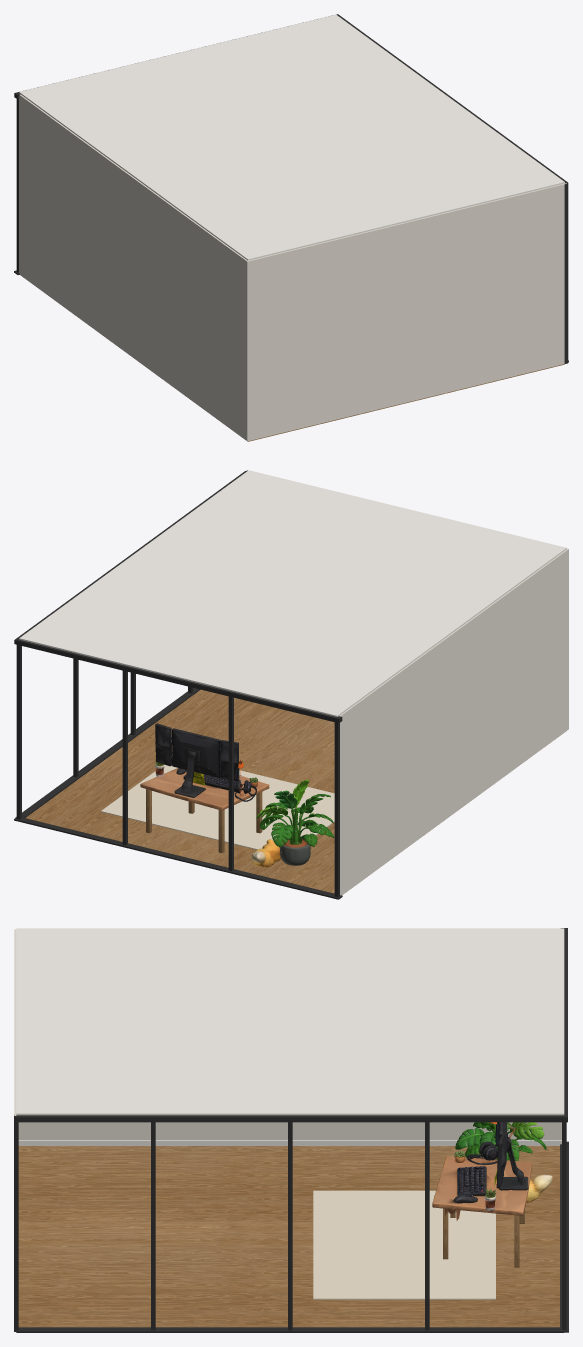
Rendered from room.glb.
3 renders of one model, top to bottom at view 1: azimuth 30°, elevation 25°; view 2: azimuth 150°, elevation 25°; view 3: azimuth 270°, elevation 25°, orthographic. The views are drawn at different scales.
Visible parts, largest first — view 1: ceiling, wallF, wallL, mullionR4.8, headerR; view 2: ceiling, wallL, floor, rug, triple_monitor_workstation_3d_model_triple_monitor_workstati, plotted_plant_dog_plotted_plant_dog, header, threshold, thresholdR, mullion-2.4, mullion0.8, mullion-0.8 (+3 smaller); view 3: ceiling, floor, rug, wallL, triple_monitor_workstation_3d_model_triple_monitor_workstati, headerR, thresholdR, baseL, plotted_plant_dog_plotted_plant_dog, mullionR4.8, mullionR0.3, mullionR1.8 (+5 smaller).
Boxes of the visible parts, left/top/right/bottom form: ceiling: left=19, top=14, right=564, bottom=260; wallF: left=246, top=183, right=566, bottom=441; wallL: left=19, top=94, right=247, bottom=440; mullionR4.8: left=564, top=183, right=568, bottom=363; headerR: left=339, top=16, right=568, bottom=183; ceiling: left=19, top=470, right=566, bottom=716; wallL: left=339, top=549, right=568, bottom=895; floor: left=25, top=689, right=526, bottom=893; rug: left=101, top=764, right=334, bottom=852; triple_monitor_workstation_3d_model_triple_monitor_workstati: left=140, top=723, right=269, bottom=810; plotted_plant_dog_plotted_plant_dog: left=251, top=779, right=334, bottom=867; header: left=14, top=637, right=342, bottom=723; threshold: left=14, top=818, right=342, bottom=899; thresholdR: left=15, top=688, right=200, bottom=818; mullion-2.4: left=334, top=722, right=339, bottom=897; mullion0.8: left=122, top=670, right=127, bottom=845; mullion-0.8: left=228, top=696, right=233, bottom=871; ceiling: left=16, top=928, right=564, bottom=1115; floor: left=18, top=1146, right=559, bottom=1327; rug: left=313, top=1190, right=495, bottom=1299; wallL: left=18, top=1122, right=561, bottom=1140; triple_monitor_workstation_3d_model_triple_monitor_workstati: left=432, top=1122, right=531, bottom=1220; headerR: left=16, top=1115, right=560, bottom=1122; thresholdR: left=16, top=1327, right=564, bottom=1332; baseL: left=18, top=1140, right=561, bottom=1145; plotted_plant_dog_plotted_plant_dog: left=455, top=1122, right=552, bottom=1202; mullionR4.8: left=14, top=1115, right=18, bottom=1331; mullionR0.3: left=425, top=1122, right=429, bottom=1330; mullionR1.8: left=288, top=1122, right=292, bottom=1330.
Size of the model in its own units: 4.91 by 2.64 by 6.07.
Materials: 11 (7 with a texture image).
